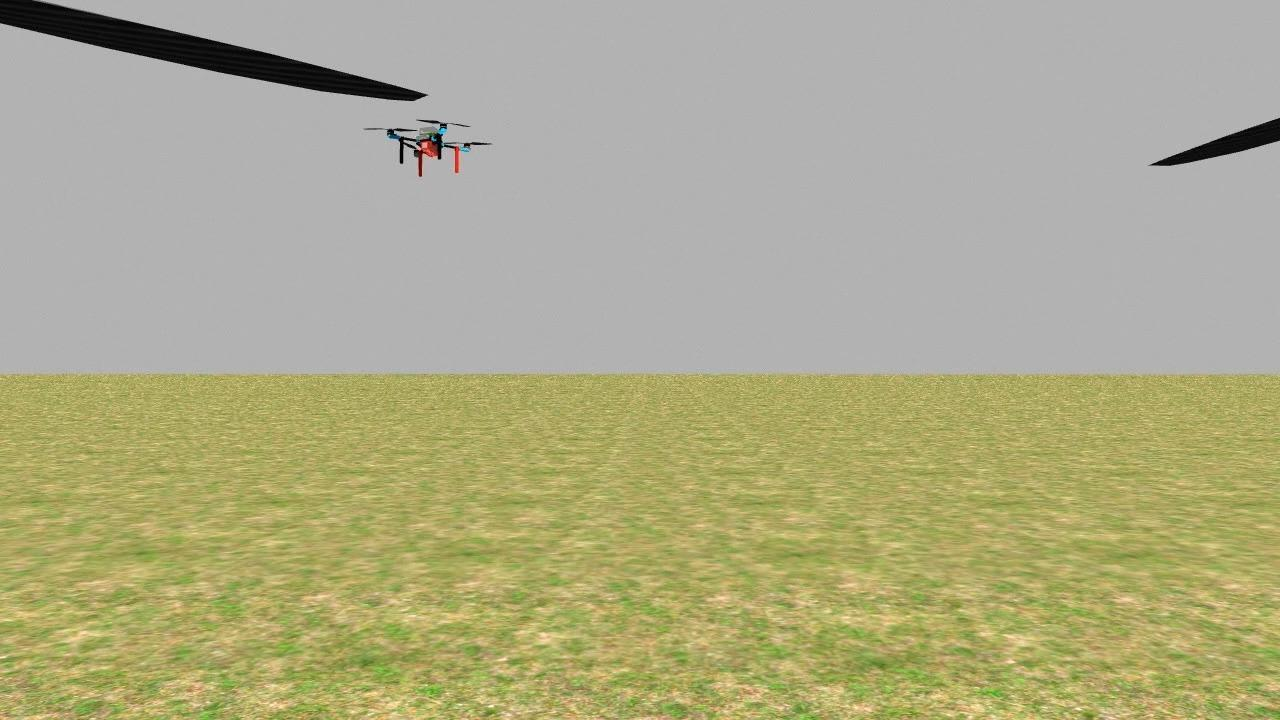UAV: (364, 90, 494, 188)
